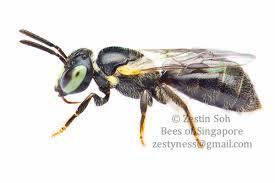Braunsapis: (16, 19, 262, 158)
